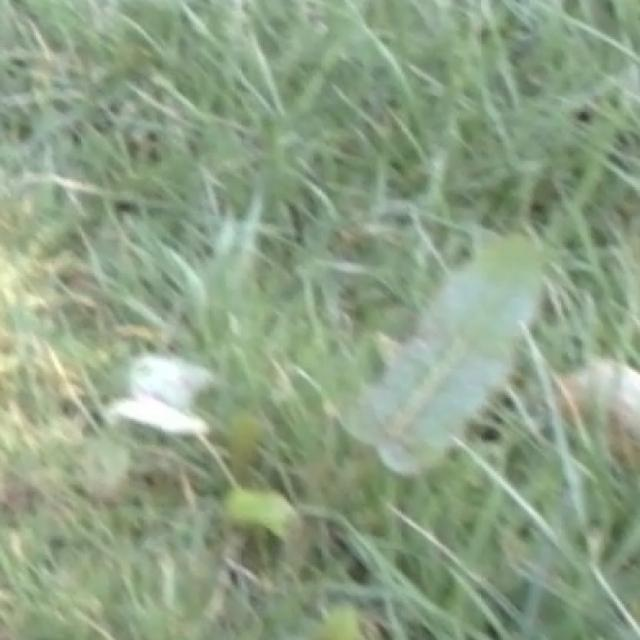organic waste: (31, 207, 602, 604)
